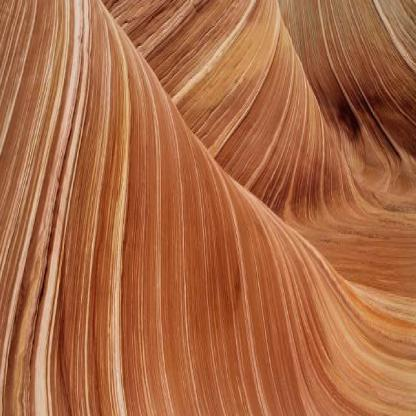Sedimentary_Sandstone: (1, 1, 416, 415)
